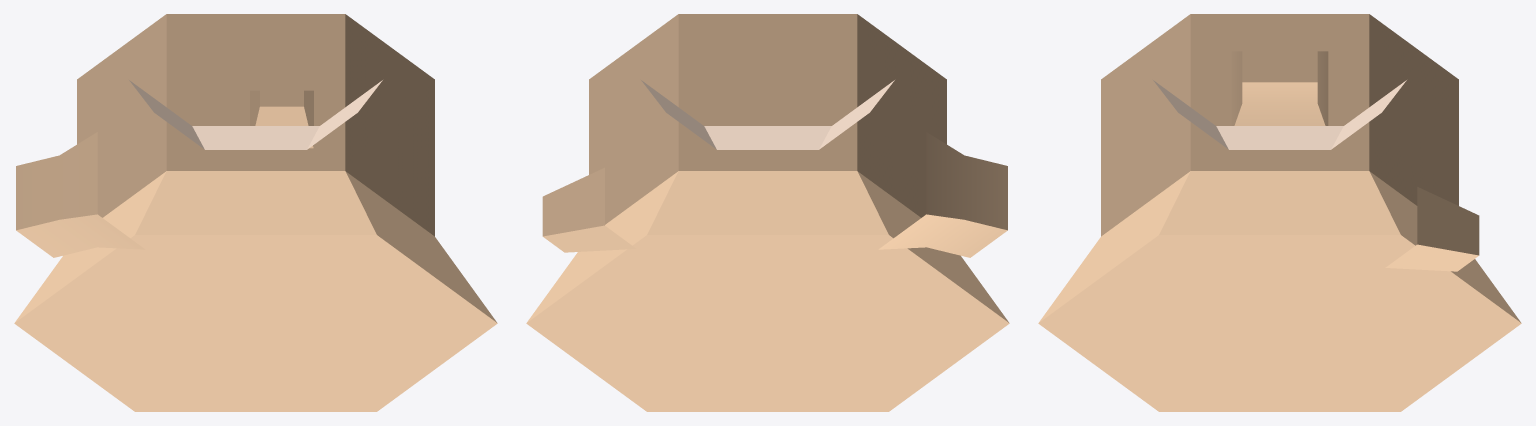
File: treeStump_round_side.glb
3 renders of one model, left to right at view 1: azimuth 30°, elevation 25°; view 2: azimuth 150°, elevation 25°; view 3: azimuth 270°, elevation 25°, orthographic.
Visible parts, largest first — view 1: treeStump_round_side; view 2: treeStump_round_side; view 3: treeStump_round_side.
Part boxes in pixels (box(x1,y1,x2,y2)): treeStump_round_side: box(14, 14, 497, 411); treeStump_round_side: box(526, 14, 1009, 411); treeStump_round_side: box(1038, 14, 1521, 411).
Size of the model in its own units: 3.57 by 2.07 by 3.71.
